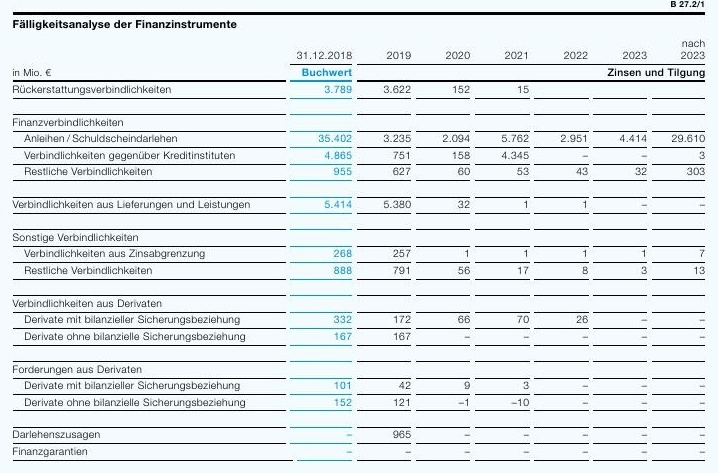table: (0, 0, 718, 473)
